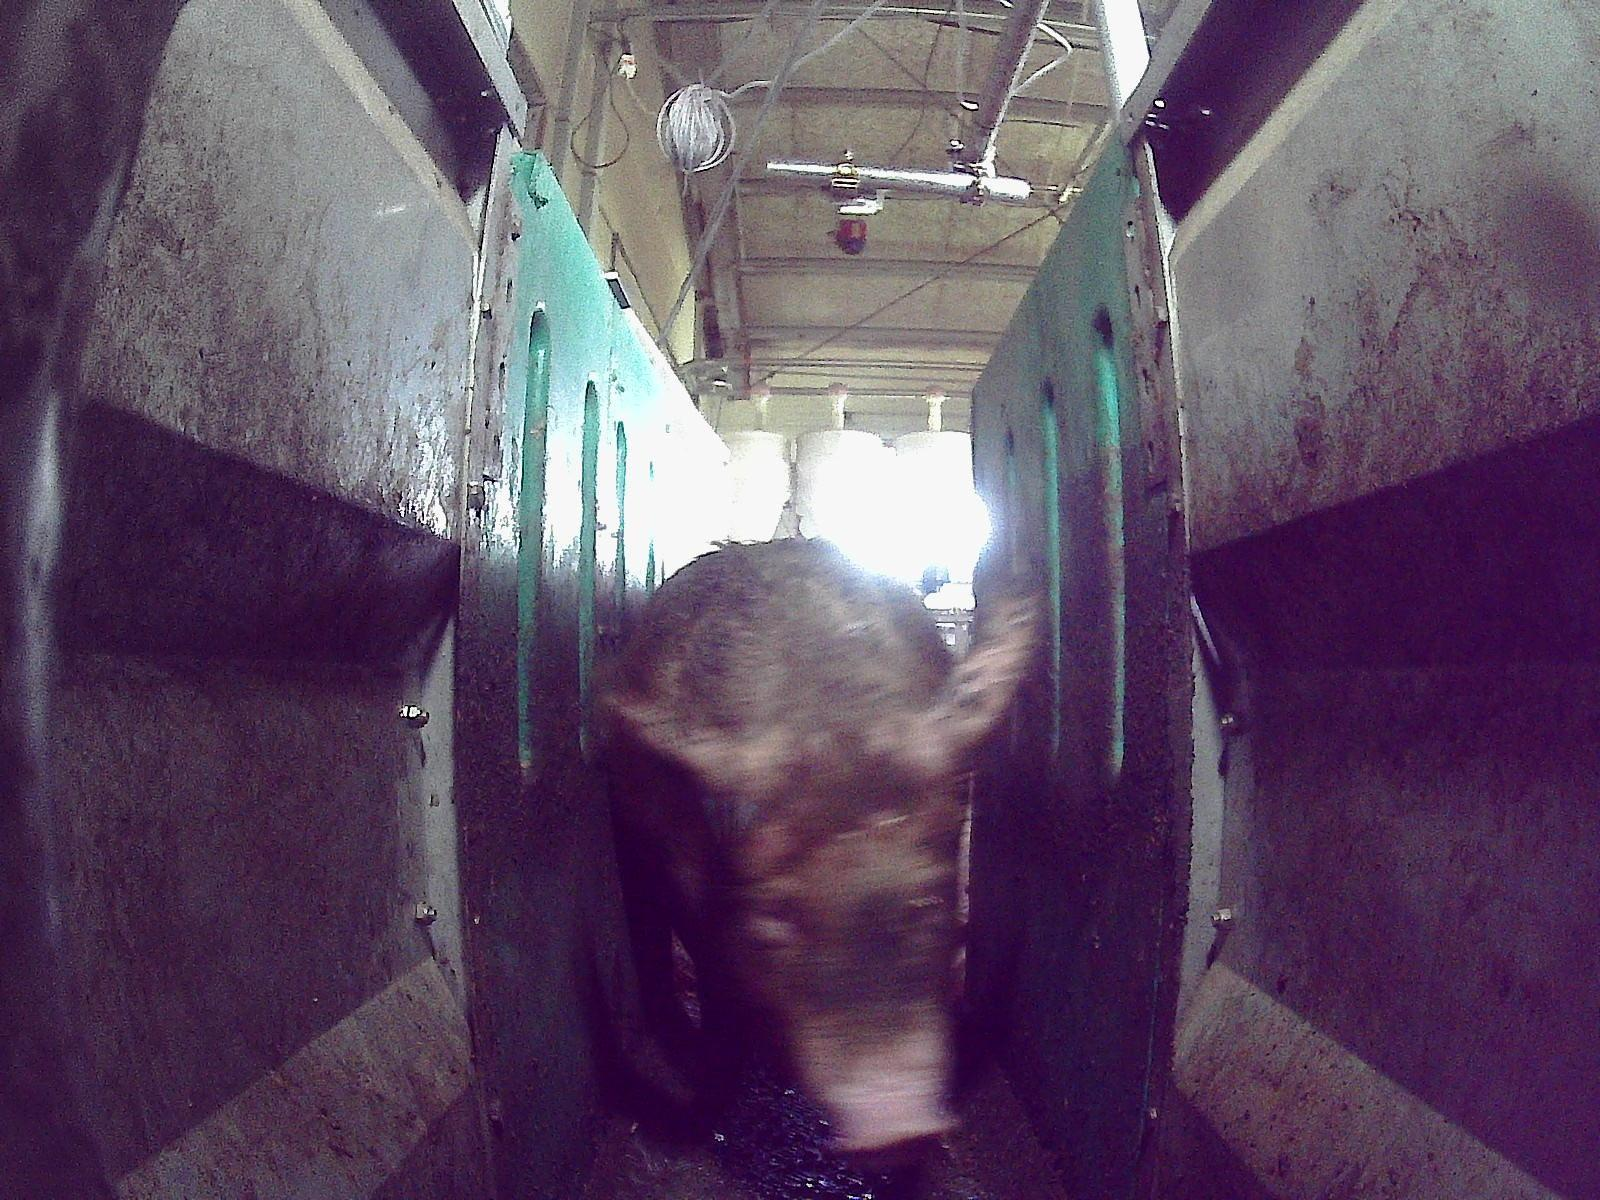Face: (709, 738, 973, 1169)
